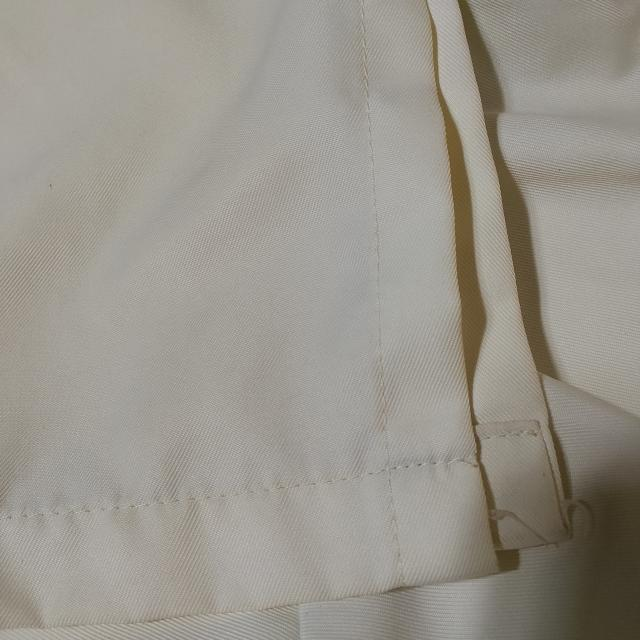education_male_uniform: (369, 0, 640, 565)
